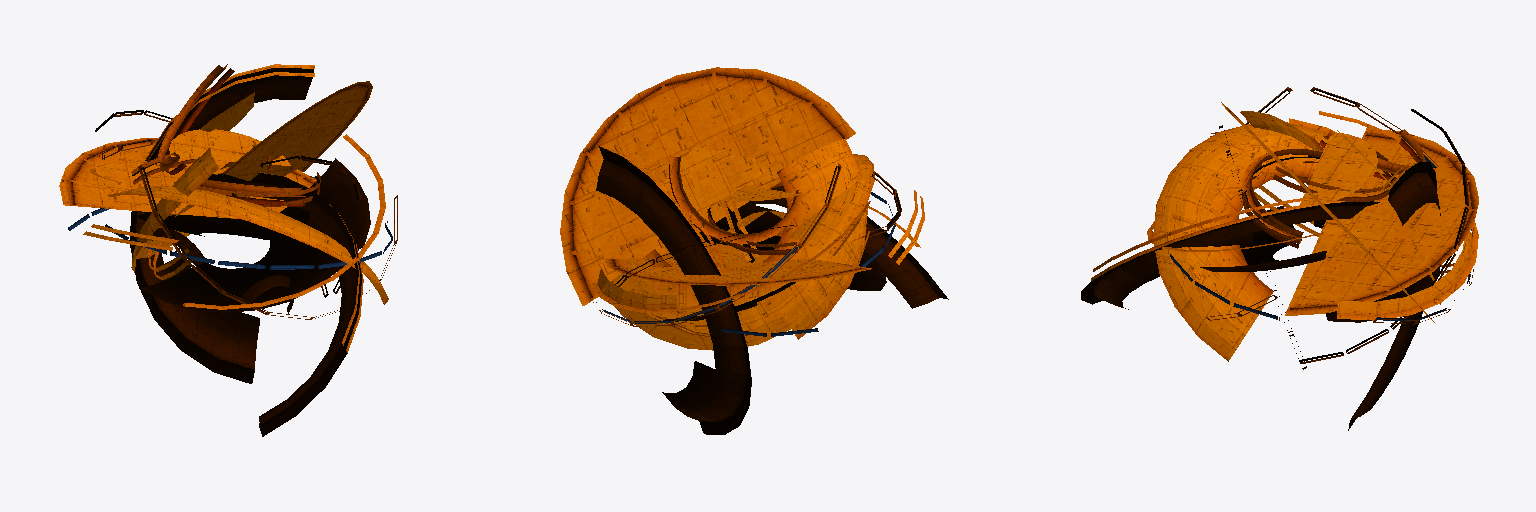
The picture shows the model from 3 angles: view 1: azimuth 30°, elevation 25°; view 2: azimuth 150°, elevation 25°; view 3: azimuth 270°, elevation 25°; orthographic projection.
Parts seen in each view (by area): view 1: Sphere001; view 2: Sphere001; view 3: Sphere001.
Part boxes in pixels (left/top/right/bottom): Sphere001: left=59, top=64, right=397, bottom=436; Sphere001: left=560, top=67, right=948, bottom=434; Sphere001: left=1081, top=87, right=1478, bottom=430.
Size of the model in its own units: 217 by 220 by 247.
Materials: 1 (1 with a texture image).